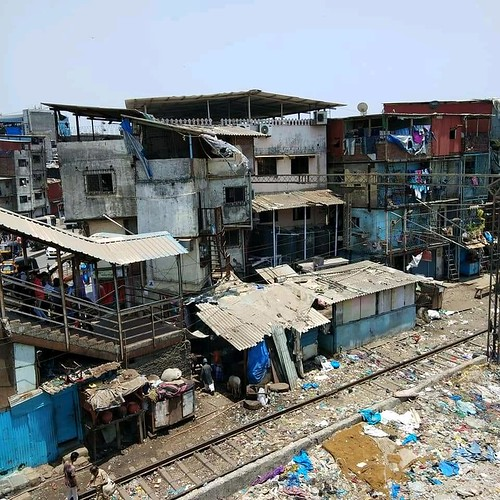building: (145, 87, 335, 327), (53, 110, 235, 334), (357, 102, 495, 283)
sky: (1, 1, 494, 93)
train track: (1, 329, 494, 500)
